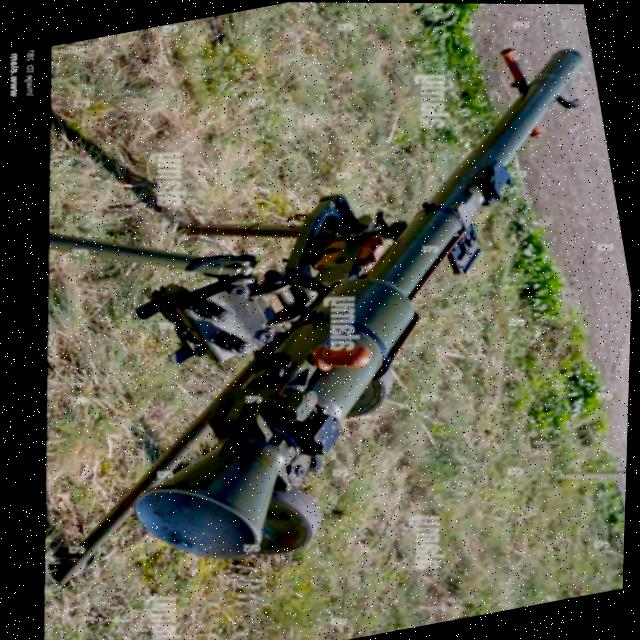rocket: (37, 0, 640, 640)
